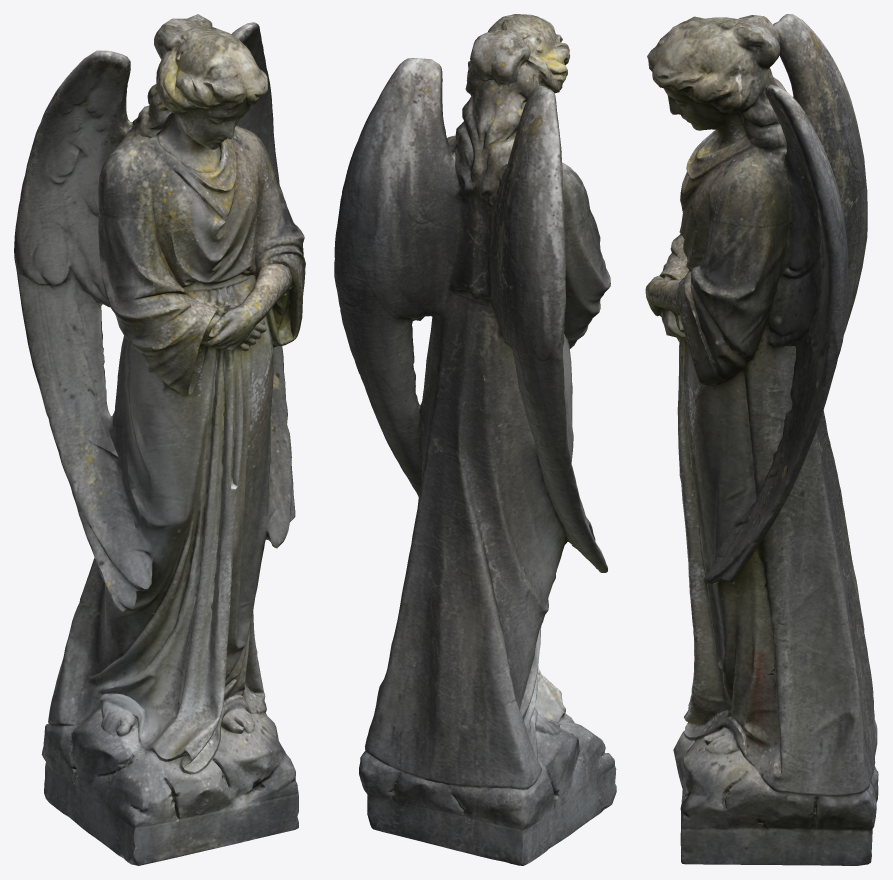
The model's file is angel_statue.glb.
The picture shows the model from 3 angles, left to right: view 1: azimuth 30°, elevation 25°; view 2: azimuth 150°, elevation 25°; view 3: azimuth 270°, elevation 25°; orthographic projection. The views are drawn at different scales.
Visible parts, largest first — view 1: angel_26k; view 2: angel_26k; view 3: angel_26k.
Part boxes in pixels (bbox=[...]): angel_26k: bbox=[14, 14, 305, 865]; angel_26k: bbox=[334, 14, 616, 865]; angel_26k: bbox=[645, 14, 878, 865].
Bounding box in the file's own units: 5.53 × 16.84 × 4.4.
1 material, 1 textured.
